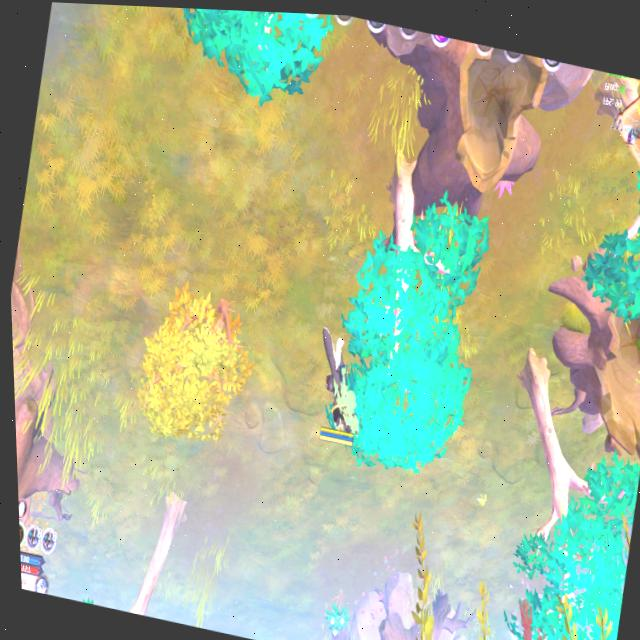hide: (317, 581, 356, 640)
ore: (497, 584, 560, 640)
red: (300, 320, 381, 455)
wisp caged: (300, 111, 522, 497), (457, 324, 640, 640), (137, 6, 346, 128), (555, 71, 640, 370), (70, 467, 203, 624)
